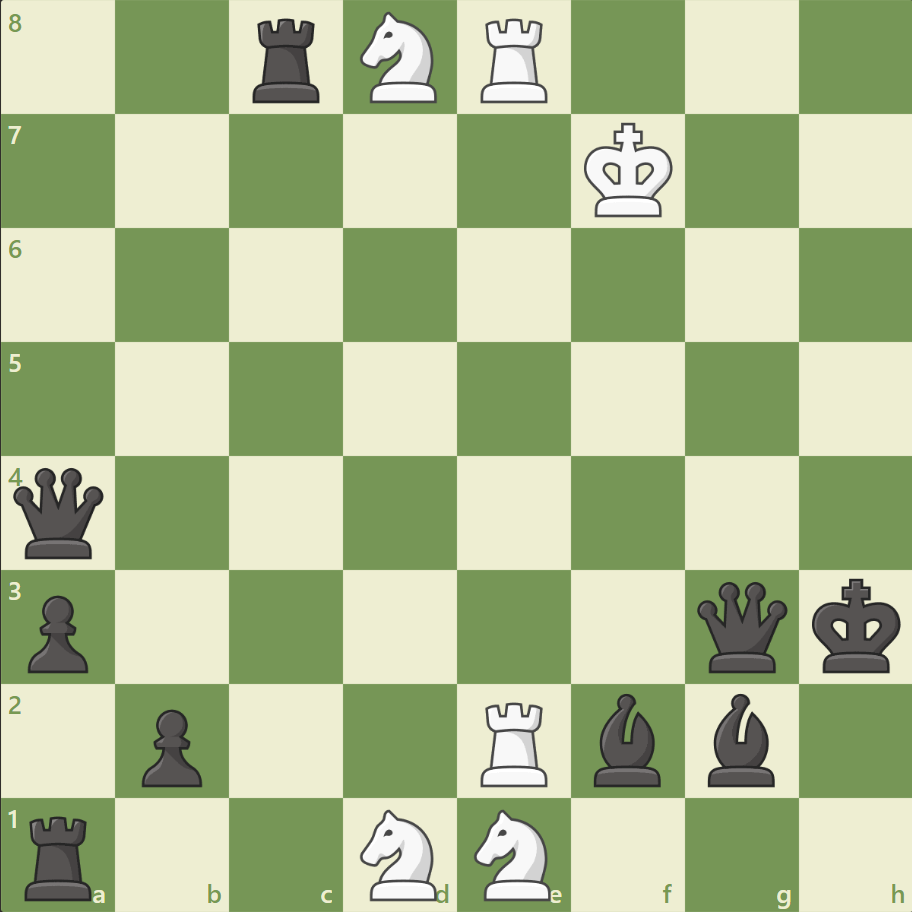K: (579, 117, 679, 225)
N: (351, 7, 449, 110), (351, 802, 449, 904), (465, 802, 562, 904)
R: (473, 12, 556, 109), (473, 693, 556, 790)
b: (585, 687, 669, 790), (698, 687, 782, 790)
k: (806, 571, 906, 679)
p: (20, 586, 95, 677), (133, 700, 208, 791)
q: (691, 576, 790, 676), (10, 463, 109, 562)
r: (19, 806, 102, 904), (246, 12, 329, 109)
